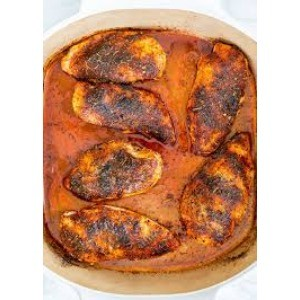chicken breast_brain food: (59, 218, 164, 267), (185, 151, 238, 238), (180, 59, 241, 132), (75, 151, 155, 203), (75, 85, 160, 129)
